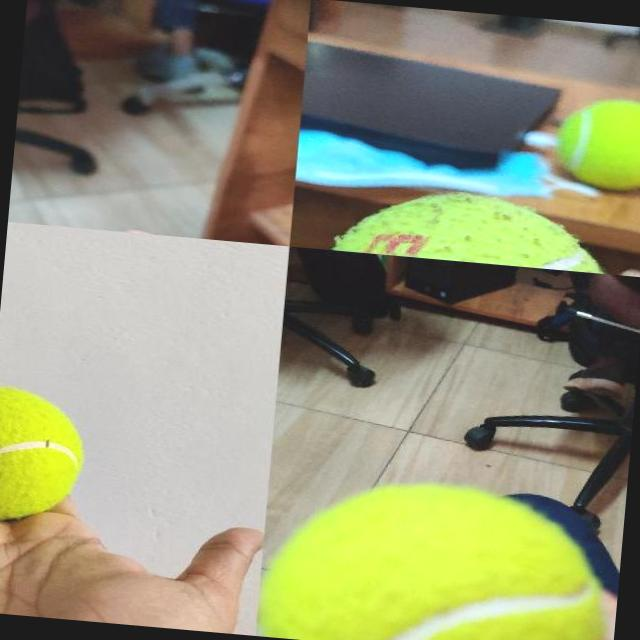Tennis Ball: (258, 470, 611, 640), (324, 182, 619, 274), (0, 384, 87, 526), (552, 93, 640, 191)
